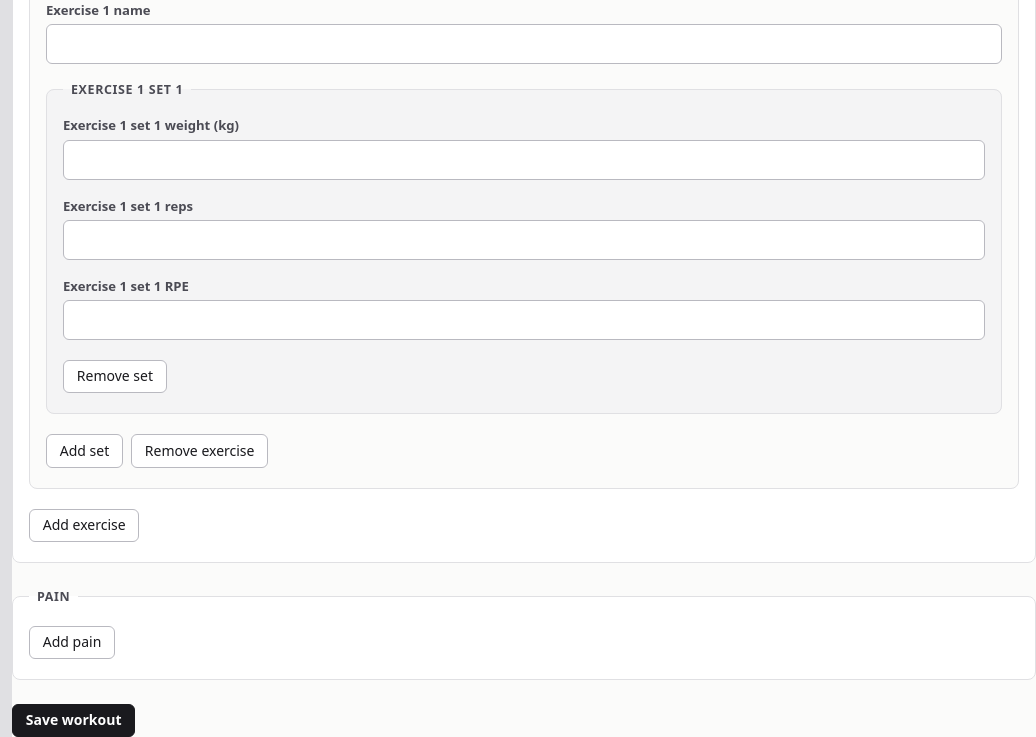
Test: WorkoutEditorScreen › shows an error and does not persist when saving with no exercises
(page scrolled)
Step 1. Click the button "Remove exercise" → (200, 451), box [131,434,268,468]
(page scrolled)
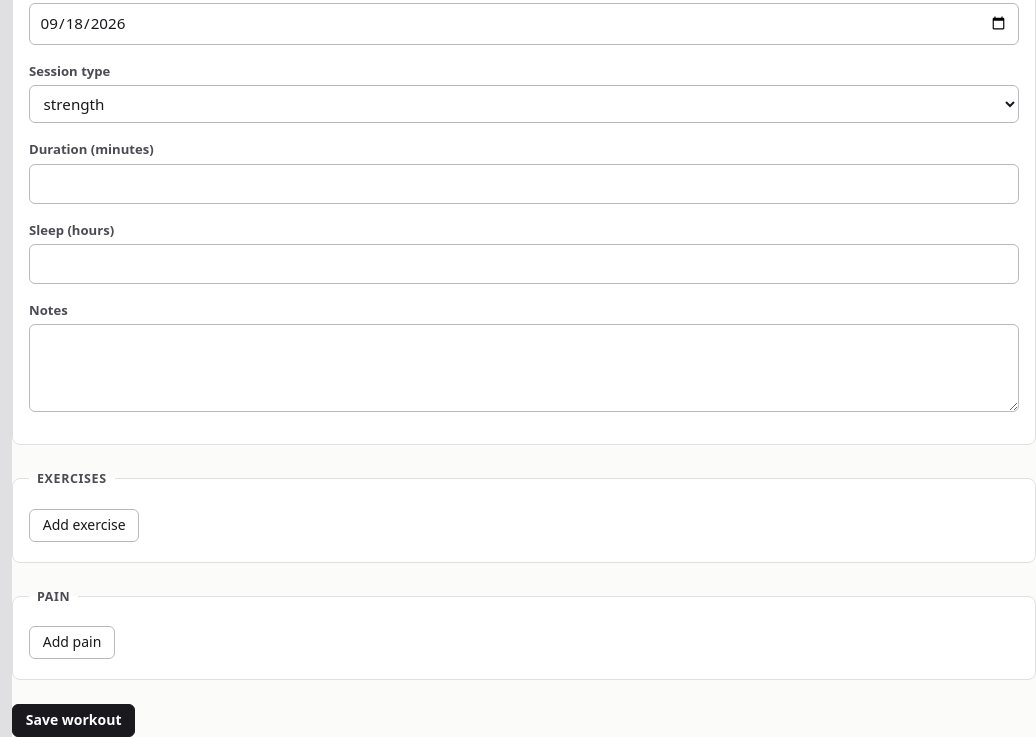
Step 2. Click the button "Save workout" → (74, 721), box [12,704,135,736]
(page scrolled)
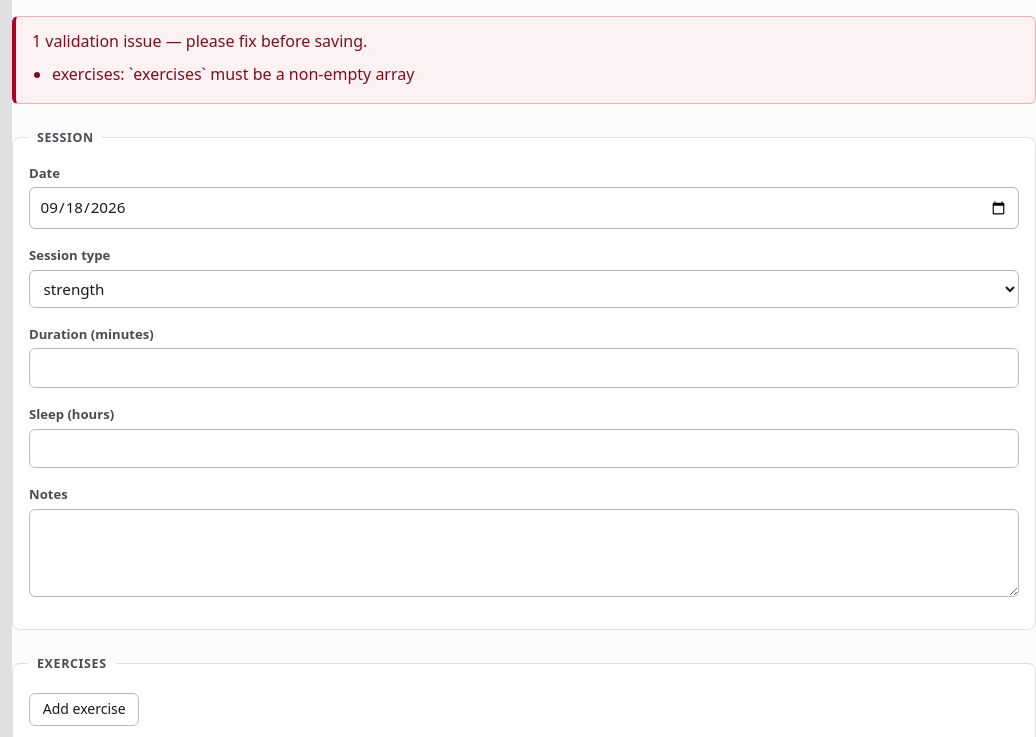
Result: the message shows "exercises" at [52,63,129,85]
